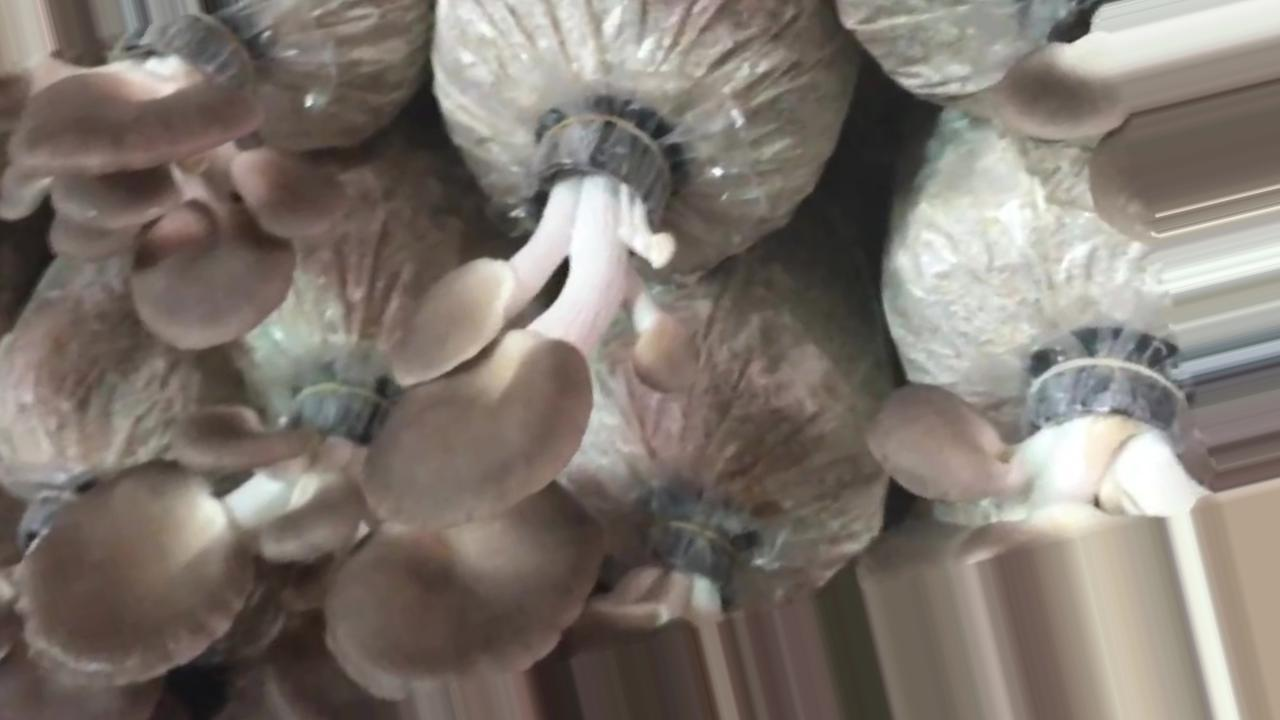nam: (16, 385, 602, 684), (855, 343, 1280, 716), (367, 117, 703, 531), (13, 14, 350, 356), (1002, 1, 1280, 242)
